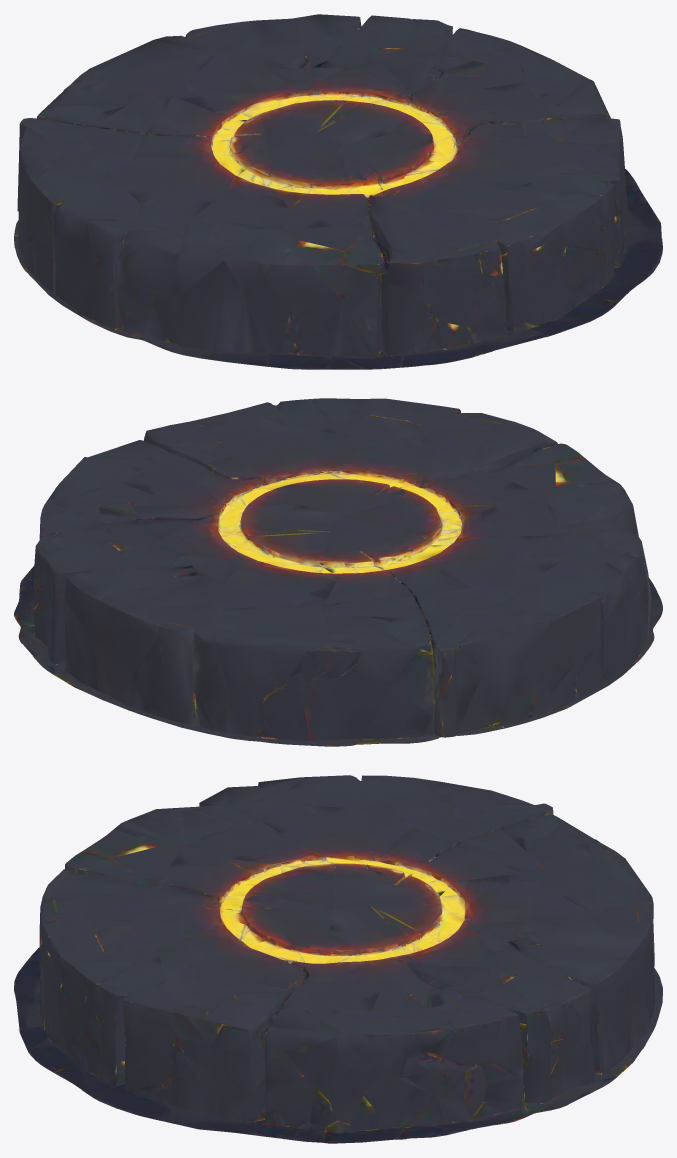
File: volcano-ritual-circle-lod1.glb
3 renders of one model, top to bottom at view 1: azimuth 30°, elevation 25°; view 2: azimuth 150°, elevation 25°; view 3: azimuth 270°, elevation 25°, orthographic.
Visible parts, largest first — view 1: Mesh_0; view 2: Mesh_0; view 3: Mesh_0.
Boxes of the visible parts, x1=… form: Mesh_0: x1=14, y1=14, x2=662, y2=369; Mesh_0: x1=14, y1=398, x2=662, y2=746; Mesh_0: x1=14, y1=775, x2=662, y2=1143.
Size of the model in its own units: 1.9 by 0.3088 by 1.86.
Materials: 1 (1 with a texture image).
